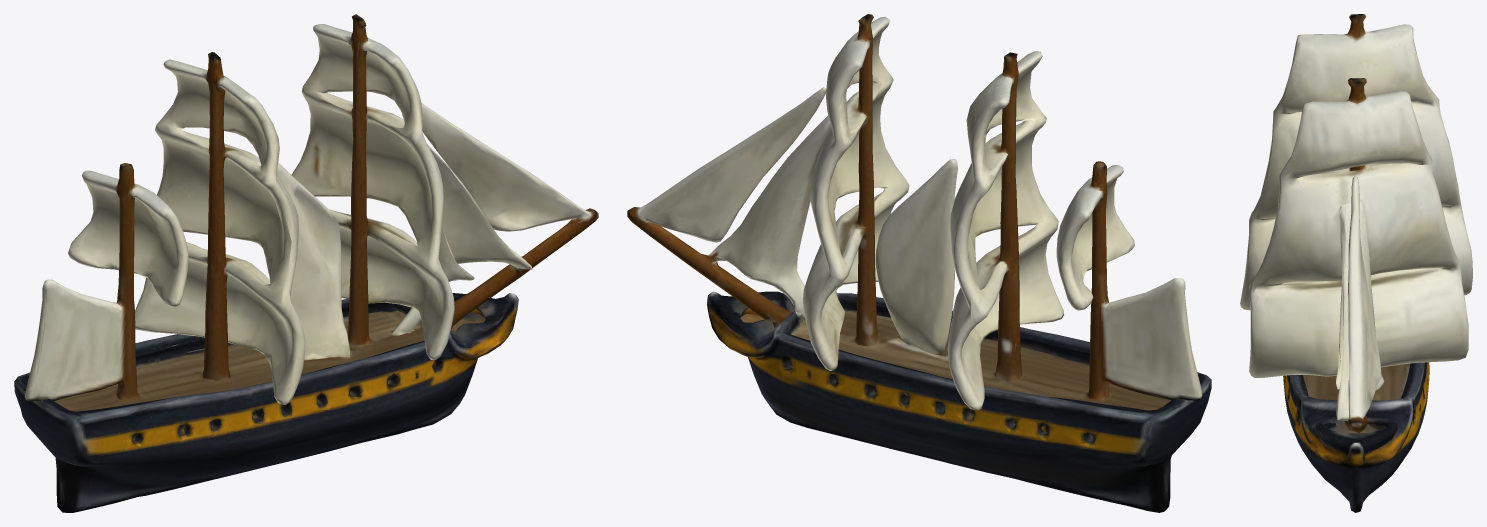
The model's file is frigate_a.glb.
3 renders of one model, left to right at view 1: azimuth 30°, elevation 25°; view 2: azimuth 150°, elevation 25°; view 3: azimuth 270°, elevation 25°, orthographic. The views are drawn at different scales.
Visible parts, largest first — view 1: world; view 2: world; view 3: world.
Boxes of the visible parts, bbox=[...] form: world: bbox=[14, 14, 598, 512]; world: bbox=[627, 14, 1211, 512]; world: bbox=[1240, 14, 1472, 512].
Bounding box in the file's own units: 1 × 0.7096 × 0.3754.
1 material, 1 textured.
